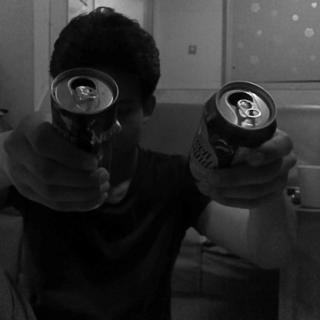alumunium_can: (188, 80, 276, 190), (50, 66, 118, 165)
